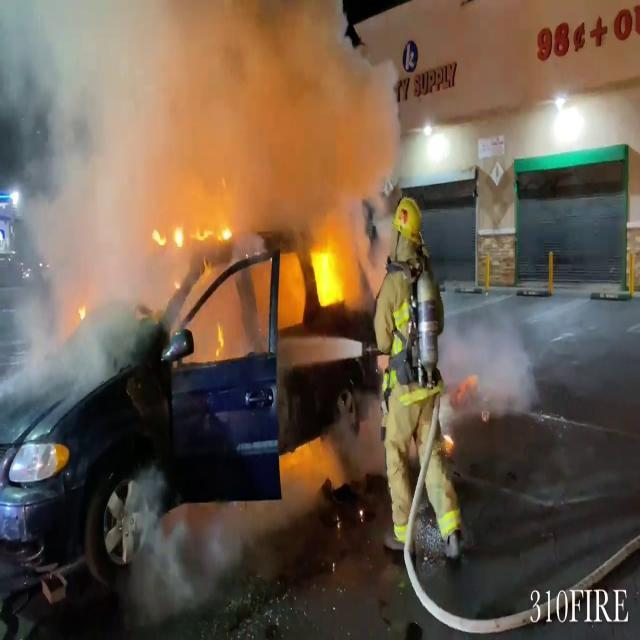Smoke: (0, 0, 413, 380)
